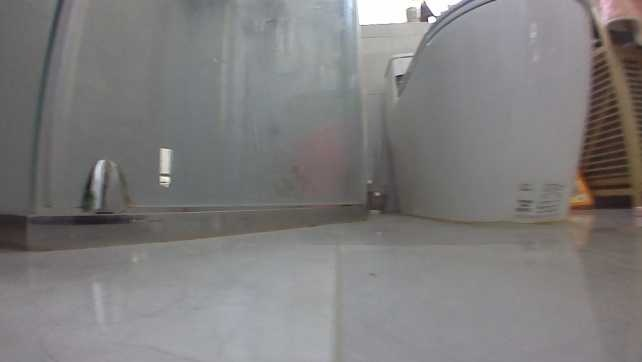toilet: (381, 0, 600, 226)
